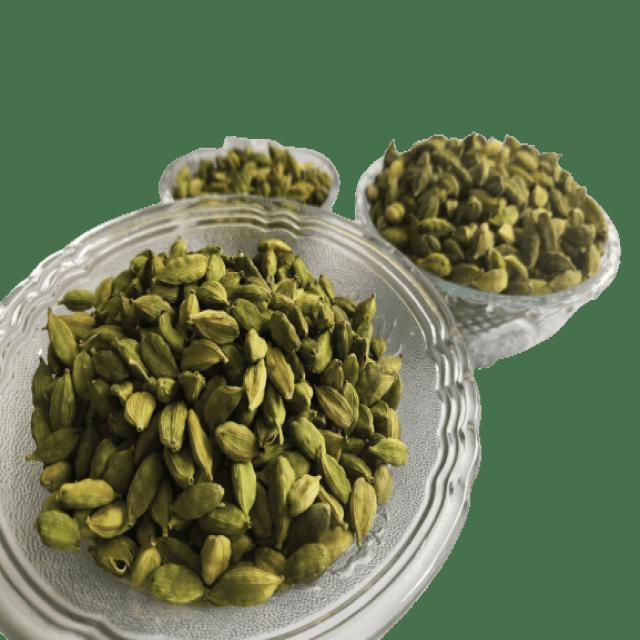Cardamom: (22, 228, 410, 611), (365, 122, 617, 302), (164, 130, 337, 208)
